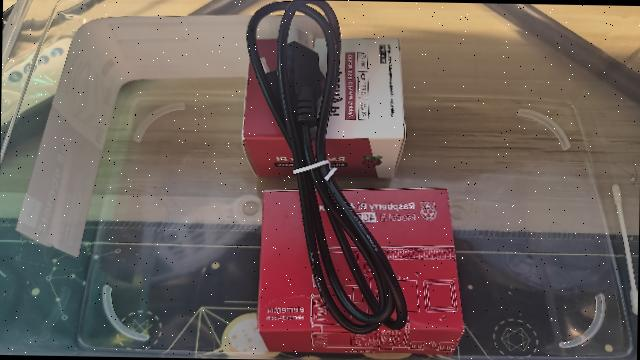charger_box: (241, 30, 410, 184)
hdmi_cable: (240, 0, 415, 336)
rpi_box: (251, 184, 467, 360)
